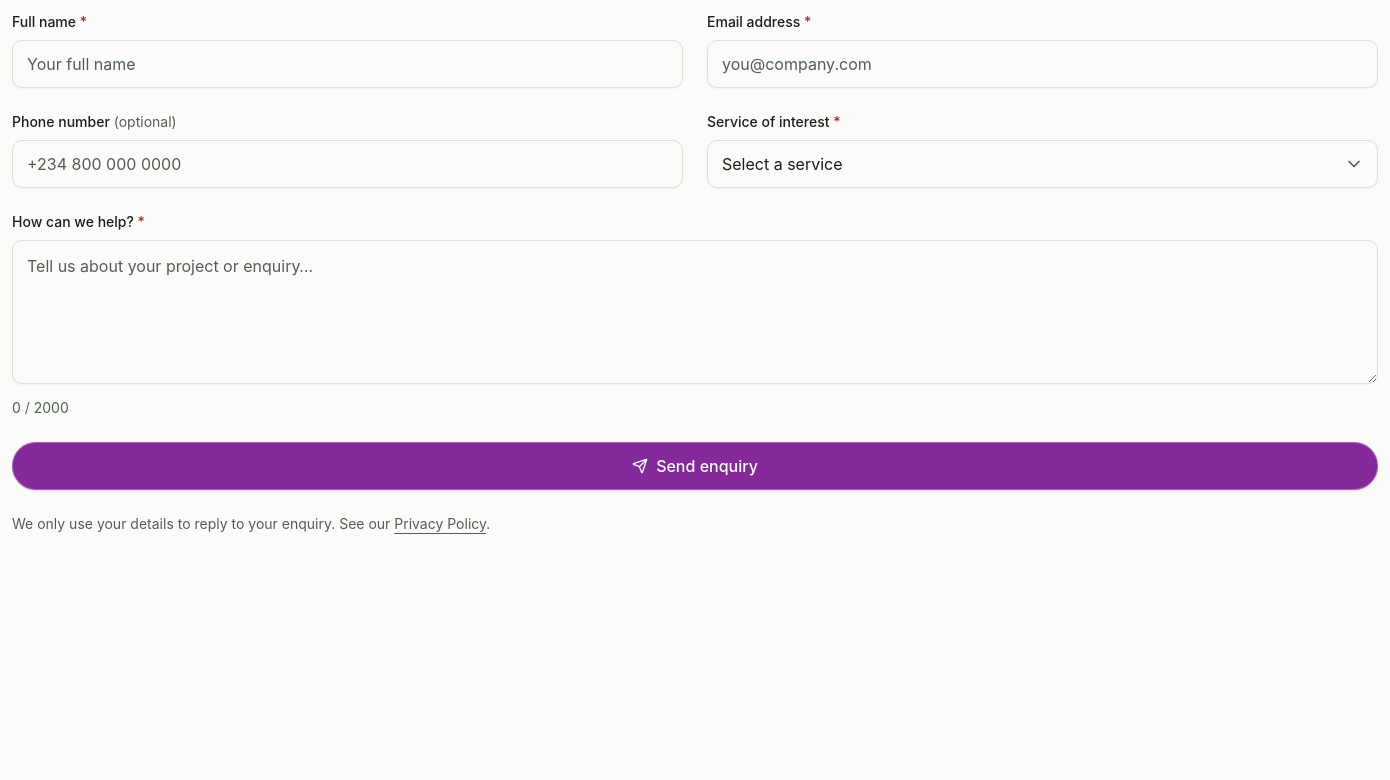
EnquiryForm: submission › disables the button while sending, so a double click cannot duplicate
Step 1. Type "Ada Okafor" into the field labelled "Full name *" → (348, 64), box [12, 40, 683, 88]
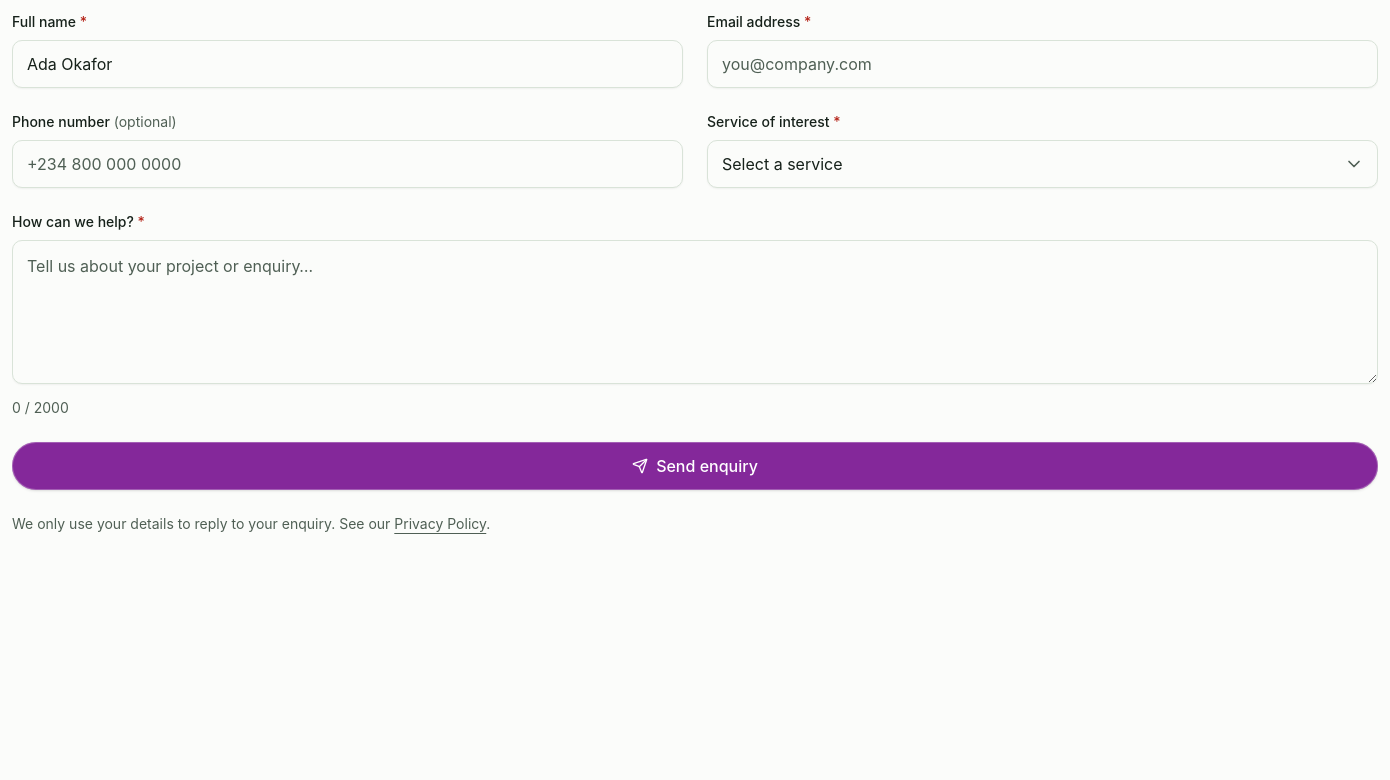
Step 2. Type "ada@example.com" into the field labelled "Email address *" → (1042, 64), box [707, 40, 1378, 88]
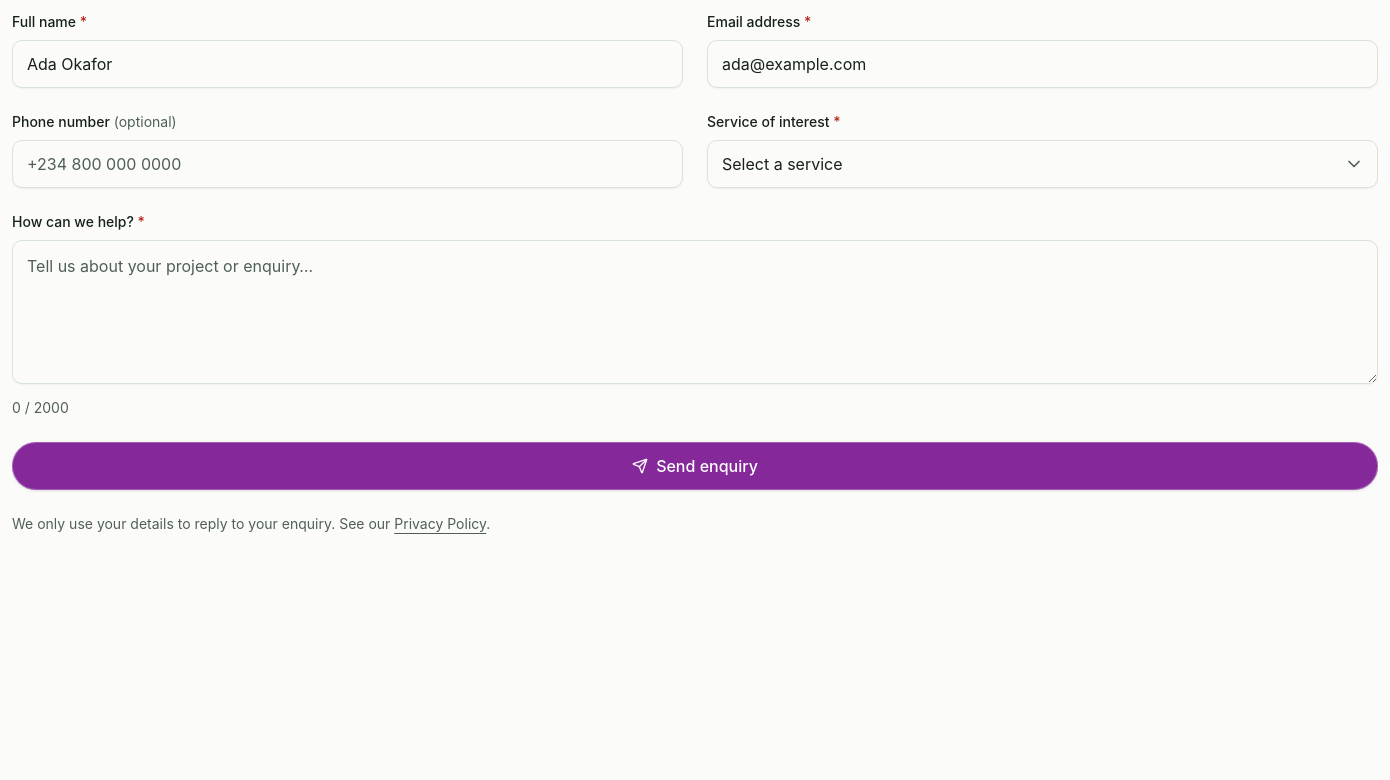
Step 3. Select "Solar PV & Renewable Energy Solutions" in the dropdown labelled "Service of interest *" → (1042, 164), box [707, 140, 1378, 188]
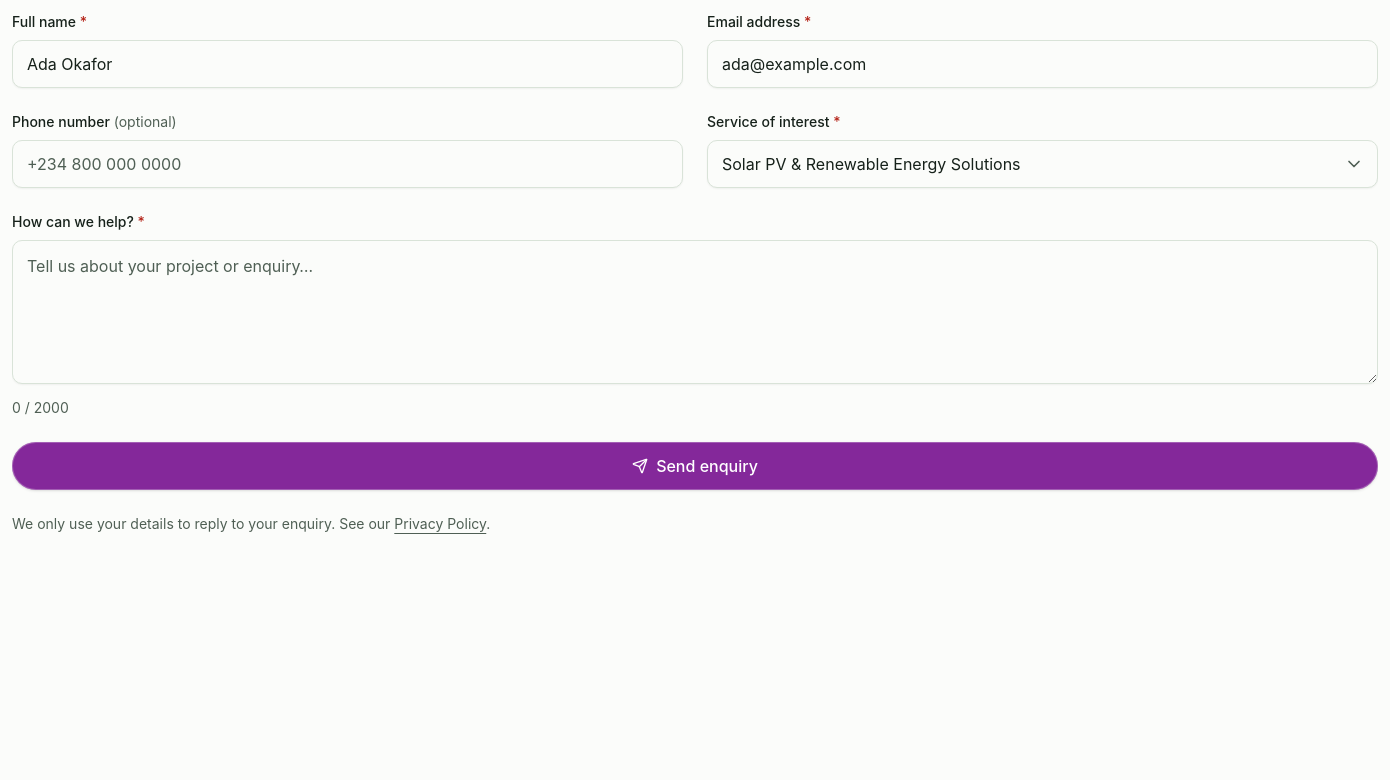
Step 4. Type "We would like a solar quote for our mill." into the text box labelled "How can we help? *" → (695, 312), box [12, 240, 1378, 384]
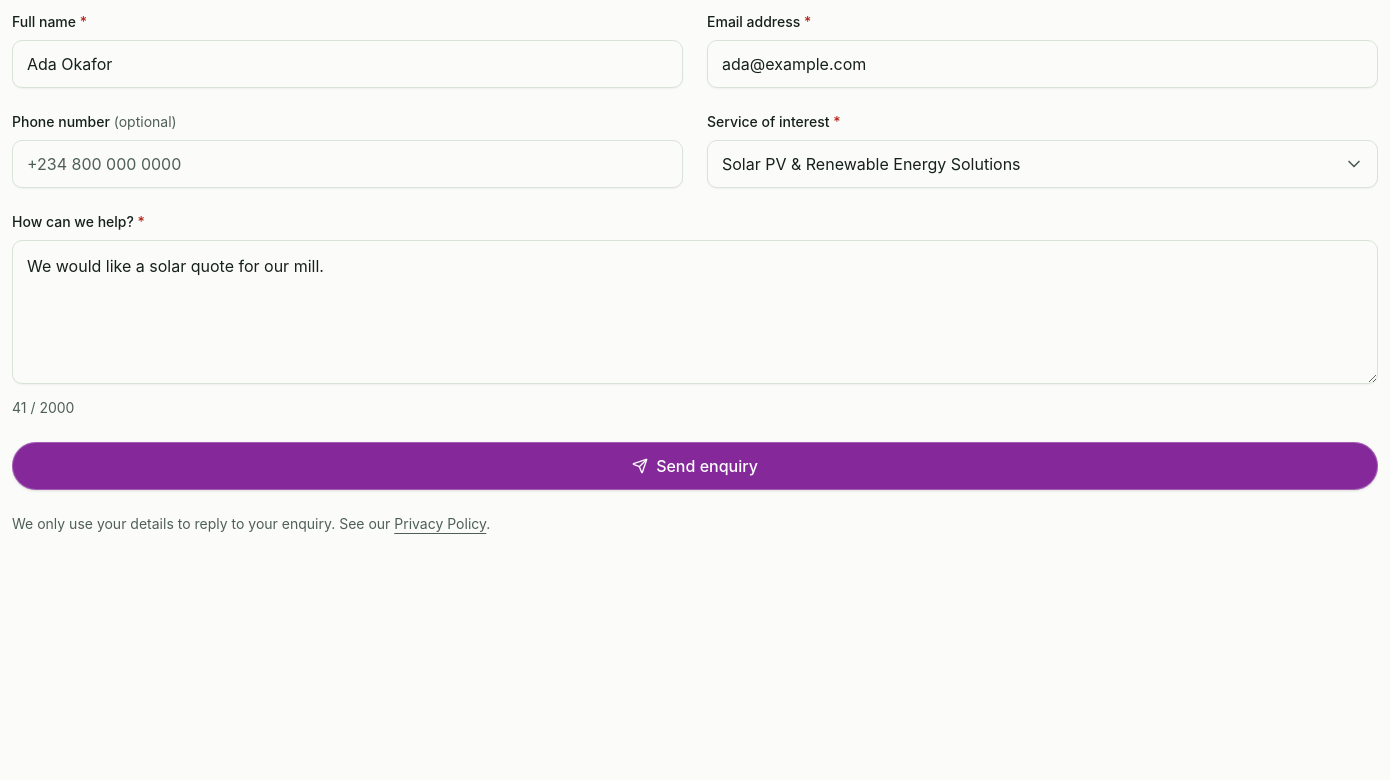
Step 5. Click the button "Send enquiry" → (695, 466), box [12, 442, 1378, 490]
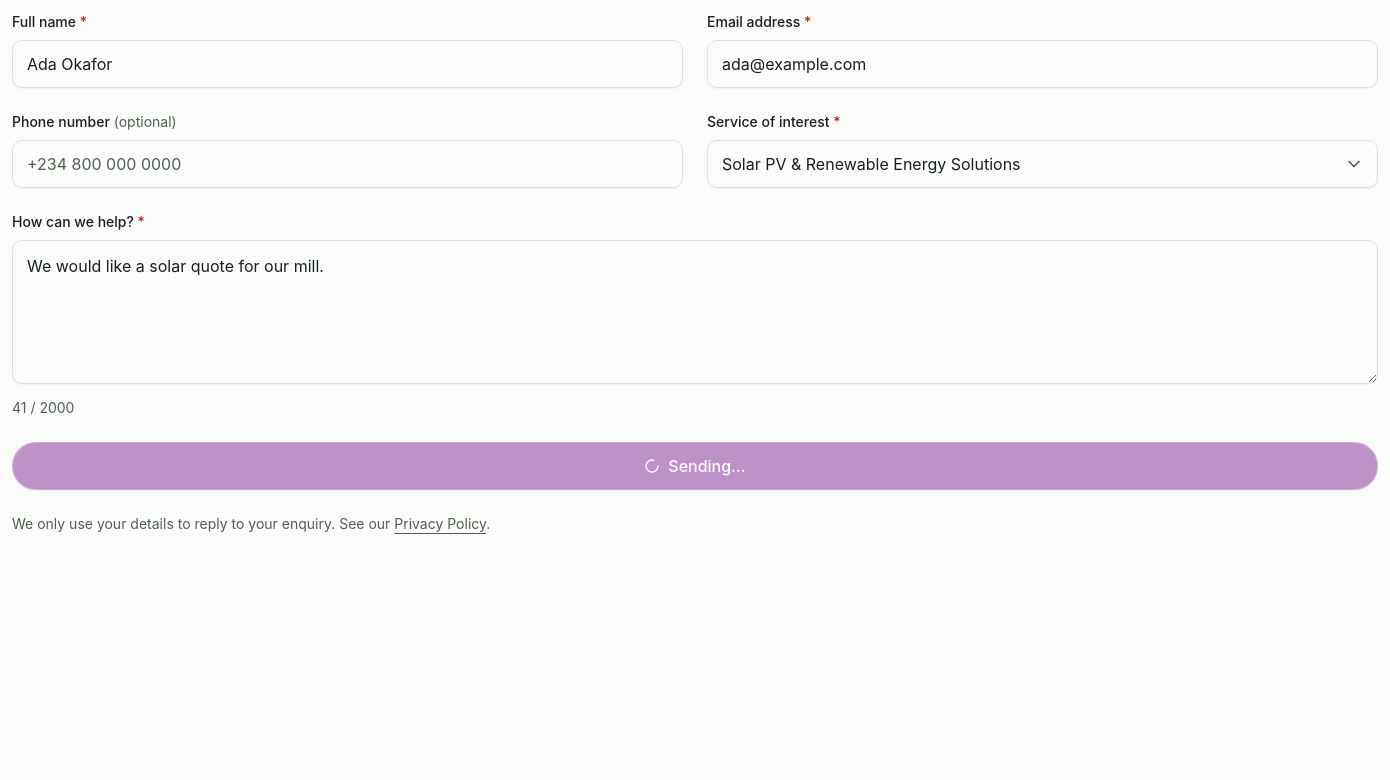
Expected: the button "Sending…" is disabled, [12, 442, 1378, 490]
Step 6. Submit the form named "enquiry form"
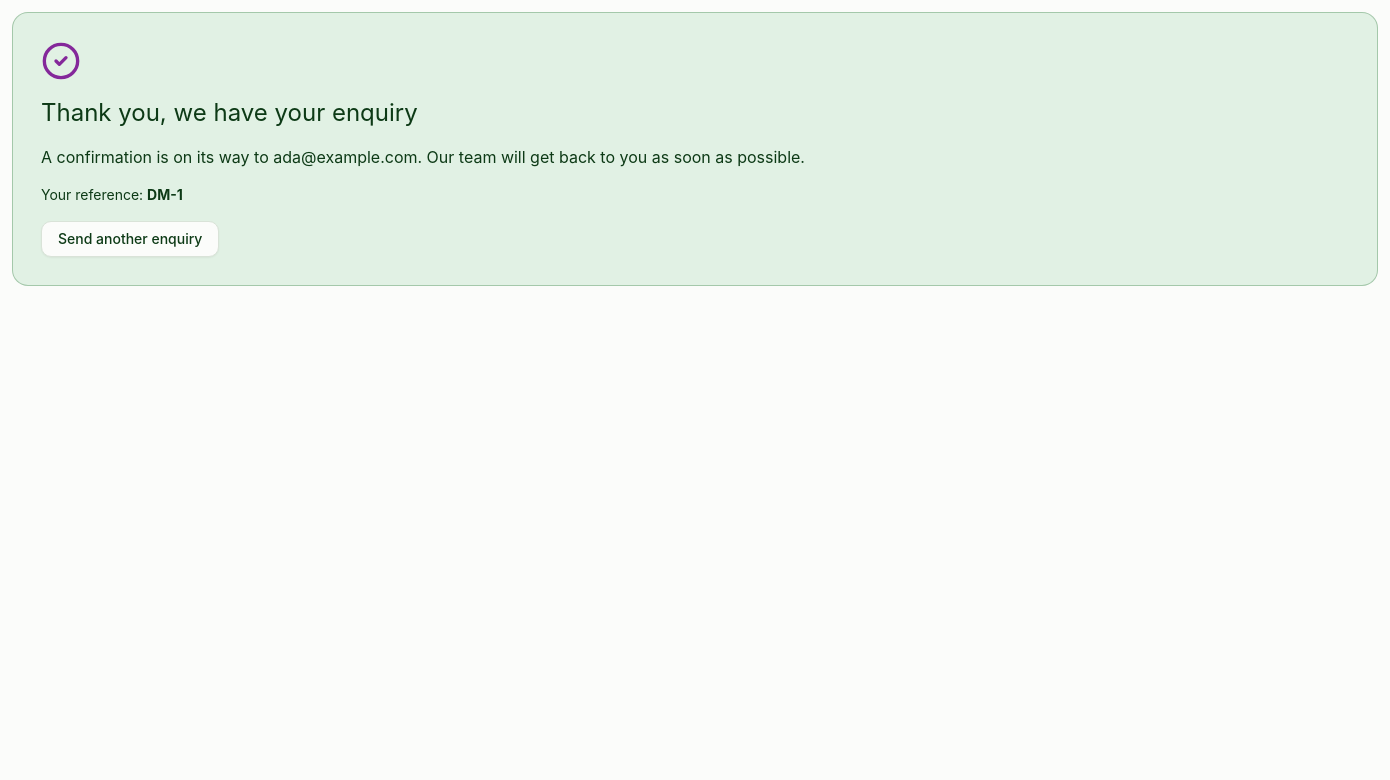
Expected: the message with test id "enquiry-success" is shown, [12, 12, 1378, 286]
